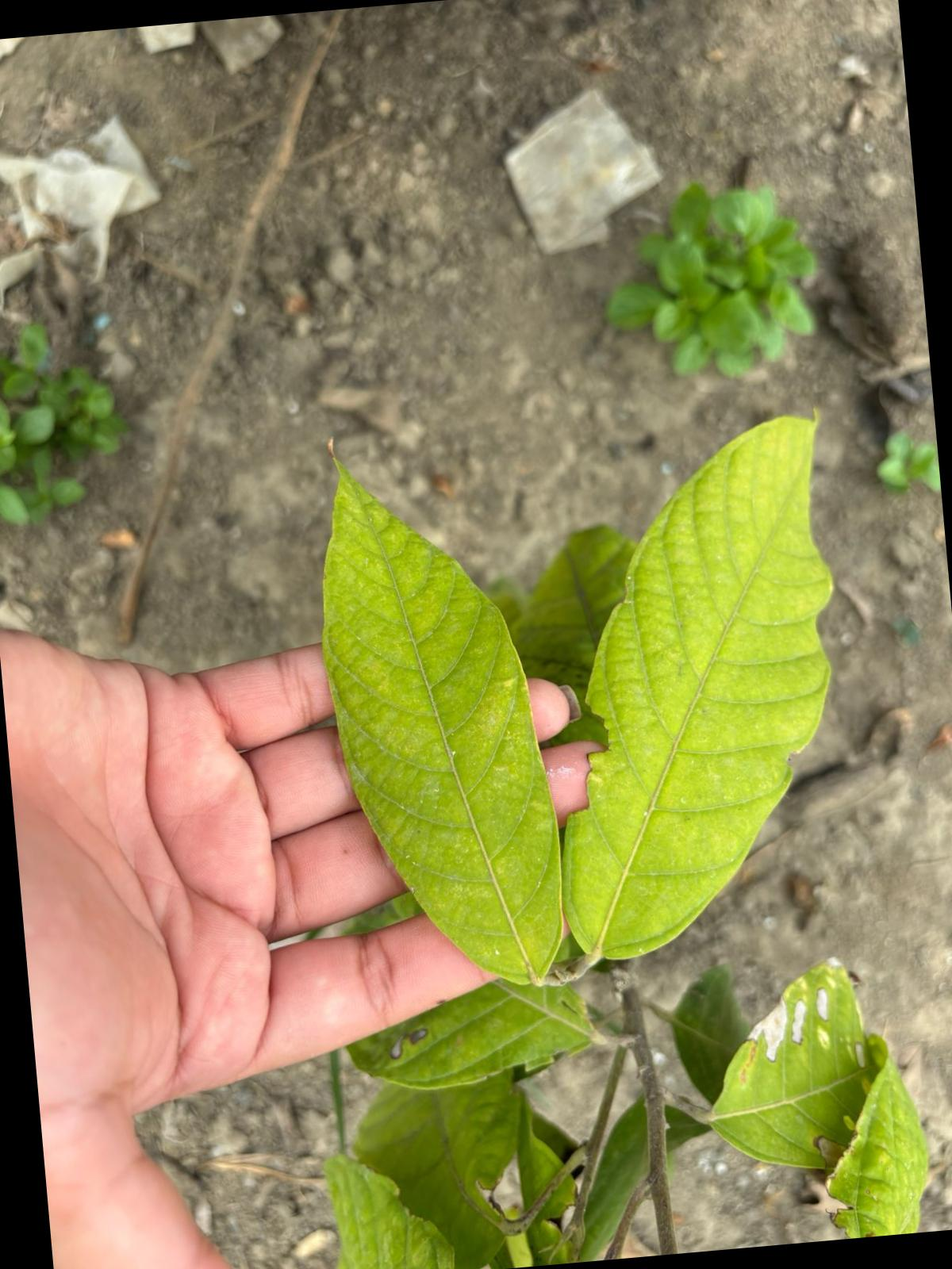Nitrogeno: (562, 417, 830, 958), (323, 465, 561, 982)
